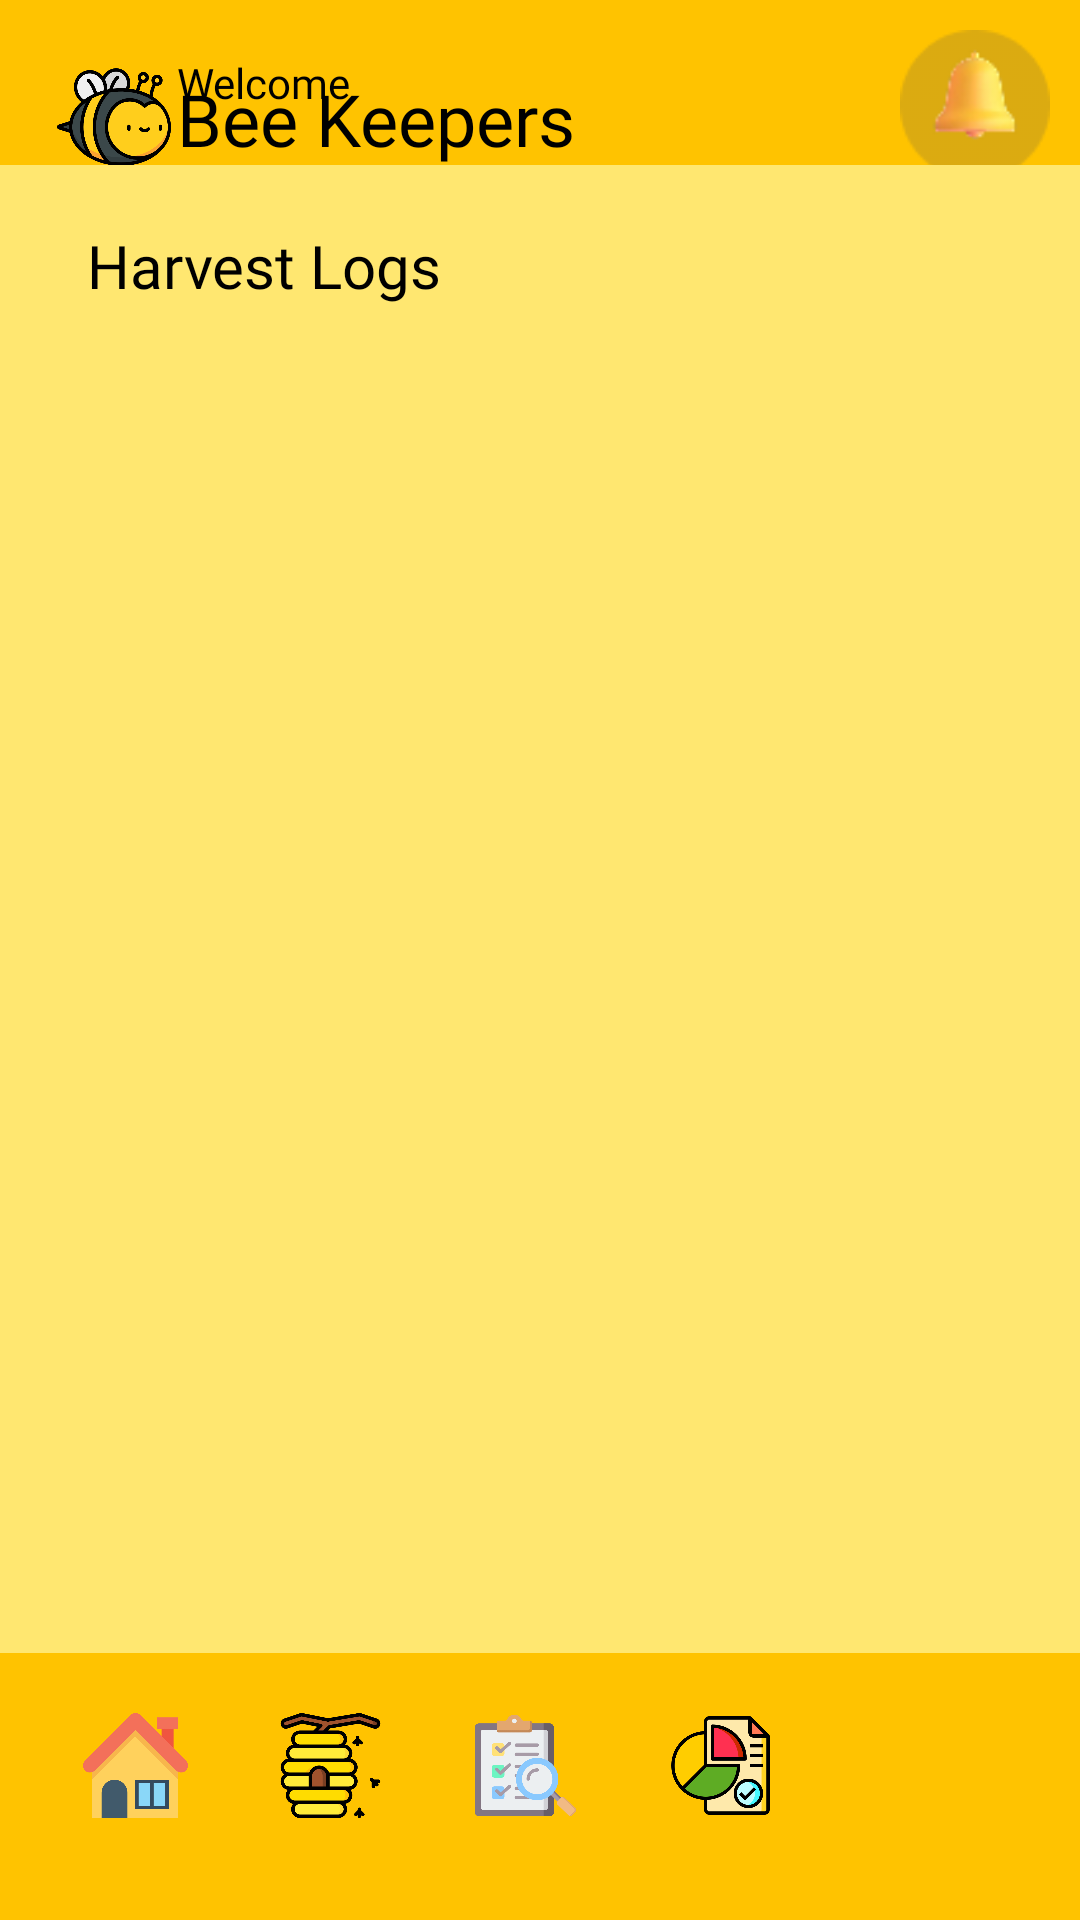

Point at icon controls on the screen. Image size 1080*1920, points as (x,y).
Home: (135,1765)
Inspection: (525,1765)
notif: (975,105)
